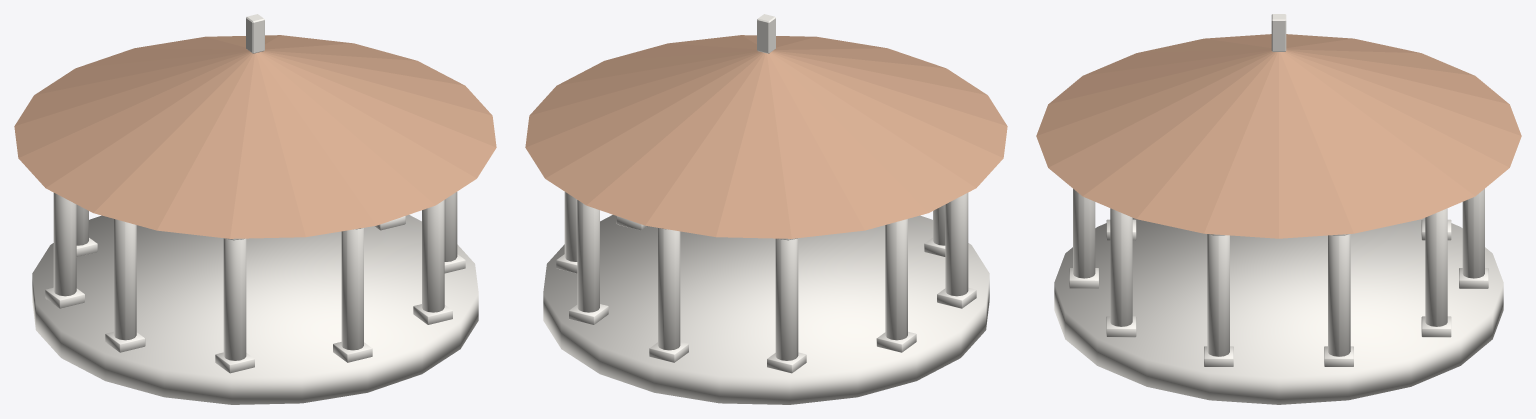
Rendered from tholos.glb.
The picture shows the model from 3 angles, left to right: view 1: azimuth 30°, elevation 25°; view 2: azimuth 150°, elevation 25°; view 3: azimuth 270°, elevation 25°; orthographic projection.
Parts seen in each view (by area): view 1: tholos_roof, podium, th_col_6, th_col_5, th_col_7, th_col_4, th_col_8, th_col_3, th_col_9, finial; view 2: tholos_roof, podium, th_col_9, th_col_0, th_col_8, th_col_1, th_col_7, th_col_2, th_col_6, finial; view 3: tholos_roof, podium, th_col_2, th_col_3, th_col_1, th_col_4, th_col_0, th_col_5, finial.
Part boxes in pixels (x1,y1,x2,y2): tholos_roof: (14, 35, 496, 238); podium: (32, 215, 478, 404); th_col_6: (215, 238, 254, 373); th_col_5: (333, 228, 372, 362); th_col_7: (105, 219, 145, 352); th_col_4: (413, 200, 452, 324); th_col_8: (45, 193, 84, 308); th_col_3: (444, 192, 465, 273); th_col_9: (76, 205, 97, 256); finial: (246, 14, 264, 53); tholos_roof: (525, 35, 1007, 238); podium: (543, 215, 989, 404); th_col_9: (767, 238, 806, 373); th_col_0: (649, 228, 688, 362); th_col_8: (876, 219, 916, 352); th_col_1: (569, 200, 608, 324); th_col_7: (937, 193, 976, 308); th_col_2: (556, 192, 577, 273); th_col_6: (924, 205, 945, 256); finial: (757, 14, 775, 53); tholos_roof: (1036, 34, 1521, 238); podium: (1054, 218, 1503, 404); th_col_2: (1324, 234, 1353, 366); th_col_3: (1204, 234, 1233, 366); th_col_1: (1421, 208, 1451, 337); th_col_4: (1106, 208, 1136, 337); th_col_0: (1459, 189, 1488, 288); th_col_5: (1069, 189, 1098, 288); finial: (1271, 14, 1286, 51).
Size of the model in its own units: 16.2 by 10.8 by 16.2.
